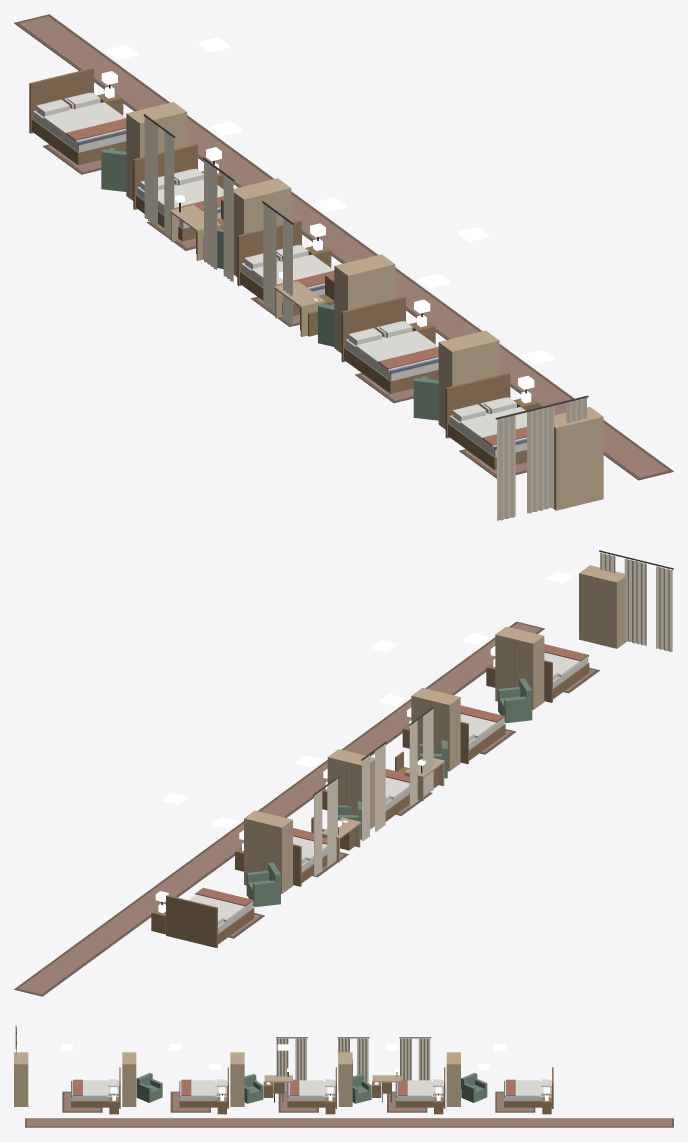
Rendered from fine-s1.glb.
The picture shows the model from 3 angles, top to bottom: view 1: azimuth 30°, elevation 25°; view 2: azimuth 150°, elevation 25°; view 3: azimuth 270°, elevation 25°; orthographic projection. The views are drawn at different scales.
Parts seen in each view (by area): view 1: soft-s1, dresser.004, bed-frame.000, bed-frame.003, dresser.003, dresser.002, bed-frame.004, dresser.001, dresser.000, bed-frame.002, bed-frame.001, writing-desk.001 (+3 smaller); view 2: soft-s1, dresser.004, dresser.003, dresser.000, bed-frame.000, dresser.002, dresser.001, lounge-chair.003, lounge-chair.000, bed-frame.003, bed-frame.004, bed-frame.001; view 3: soft-s1, dresser.000, dresser.001, dresser.002, dresser.003, dresser.004, lounge-chair.003, lounge-chair.000, bed-frame.001, bed-frame.000, bed-frame.003, bed-frame.004 (+10 smaller).
Boxes of the visible parts, <box> form: soft-s1: <box>14,14,673,521</box>; dresser.004: <box>553,406,603,510</box>; bed-frame.000: <box>29,68,126,165</box>; bed-frame.003: <box>341,296,438,393</box>; dresser.003: <box>438,330,499,429</box>; dresser.002: <box>334,254,395,353</box>; bed-frame.004: <box>445,372,526,469</box>; dresser.001: <box>233,178,291,276</box>; dresser.000: <box>126,102,187,200</box>; bed-frame.002: <box>237,220,332,315</box>; bed-frame.001: <box>133,144,220,241</box>; writing-desk.001: <box>274,271,324,336</box>; soft-s1: <box>14,550,673,996</box>; dresser.004: <box>579,565,627,648</box>; dresser.003: <box>495,626,544,709</box>; dresser.000: <box>244,810,292,893</box>; bed-frame.000: <box>166,895,254,947</box>; dresser.002: <box>411,688,460,771</box>; dresser.001: <box>327,749,374,829</box>; lounge-chair.003: <box>498,678,532,723</box>; lounge-chair.000: <box>246,862,280,907</box>; bed-frame.003: <box>460,716,505,763</box>; bed-frame.004: <box>544,655,589,702</box>; bed-frame.001: <box>293,844,327,886</box>; soft-s1: <box>15,1025,673,1127</box>; dresser.000: <box>446,1052,460,1106</box>; dresser.001: <box>338,1052,352,1106</box>; dresser.002: <box>230,1052,244,1106</box>; dresser.003: <box>122,1052,136,1106</box>; dresser.004: <box>14,1052,28,1106</box>; lounge-chair.003: <box>136,1073,162,1102</box>; lounge-chair.000: <box>461,1073,487,1102</box>; bed-frame.001: <box>395,1067,445,1108</box>; bed-frame.000: <box>504,1067,553,1108</box>; bed-frame.003: <box>179,1067,228,1108</box>; bed-frame.004: <box>71,1067,120,1108</box>.
Size of the model in its own units: 4.74 by 2.64 by 27.89.
